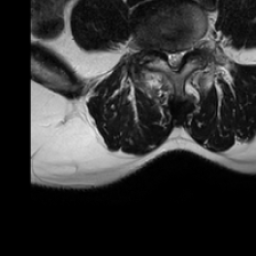CCS_stenosis: (171, 45, 177, 75)
LFS_severe_stenosis: (185, 36, 194, 59)
LLS_stenosis: (177, 43, 185, 68)
RFS_severe_stenosis: (154, 38, 165, 60)
RLS_severe_stenosis: (165, 42, 171, 66)
